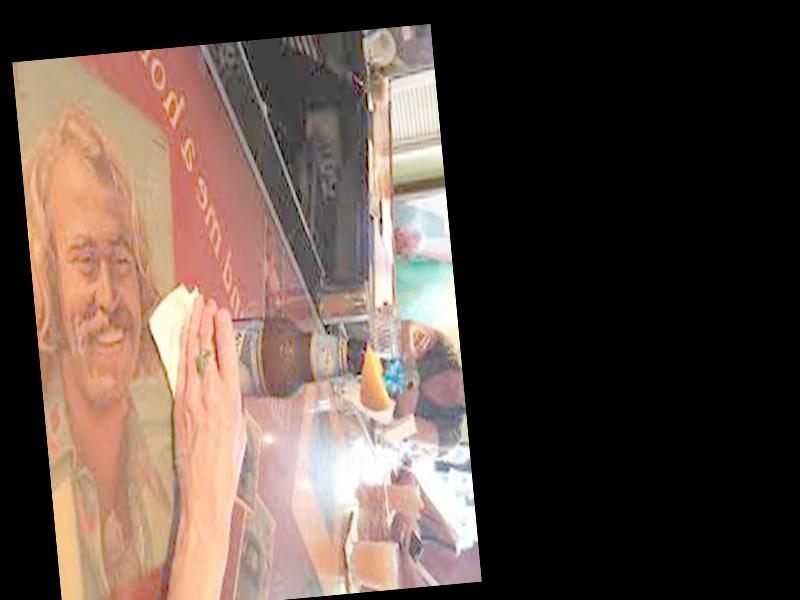Beer: (178, 303, 374, 402)
